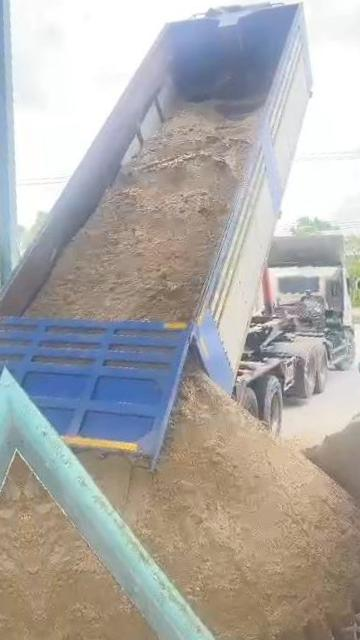sand: (82, 374, 360, 640), (27, 104, 256, 321), (24, 480, 167, 640), (303, 403, 360, 542)
